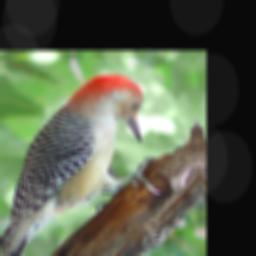Woodpecker: (0, 68, 167, 256)
